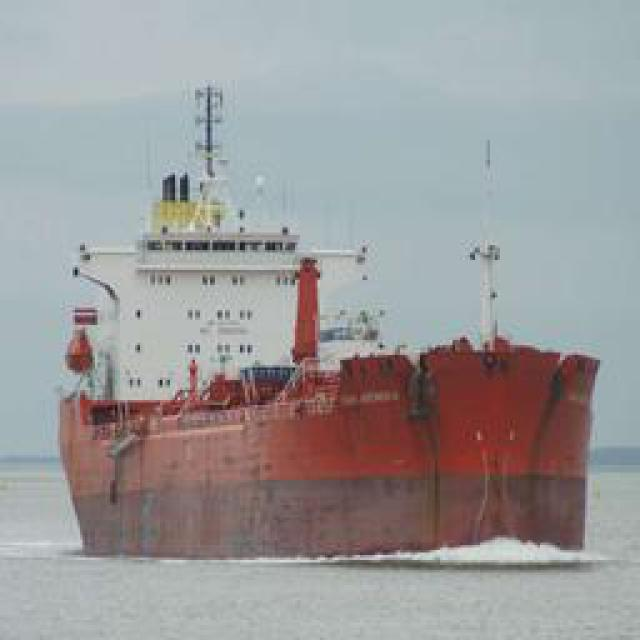Ship: (49, 89, 604, 549)
